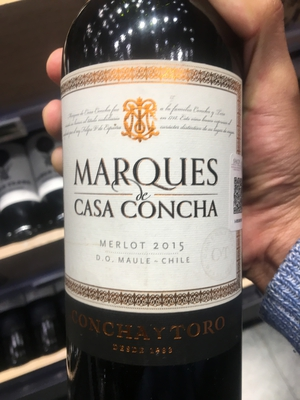marques de casa concha merlot: (43, 19, 257, 385)
